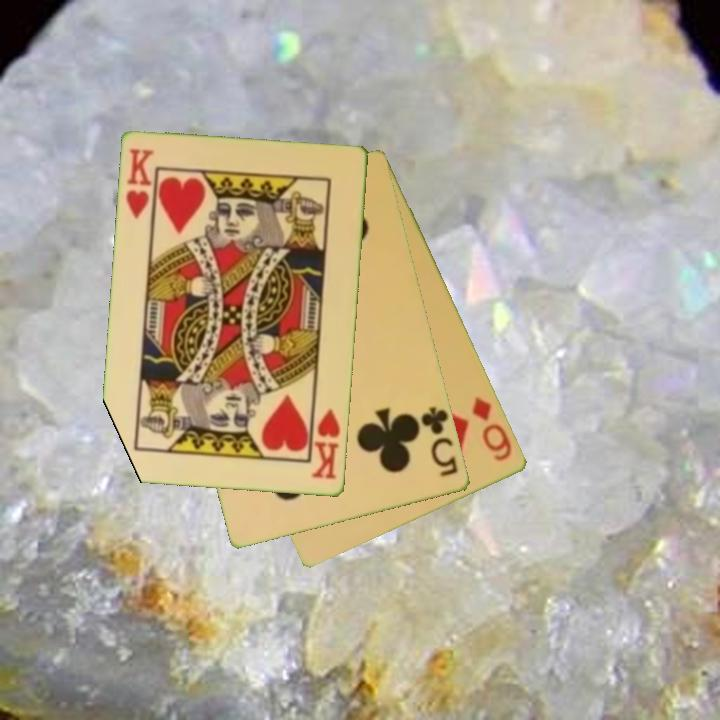5c: (418, 403, 461, 480)
6d: (468, 393, 516, 465)
Kh: (308, 401, 344, 483), (122, 145, 157, 226)
